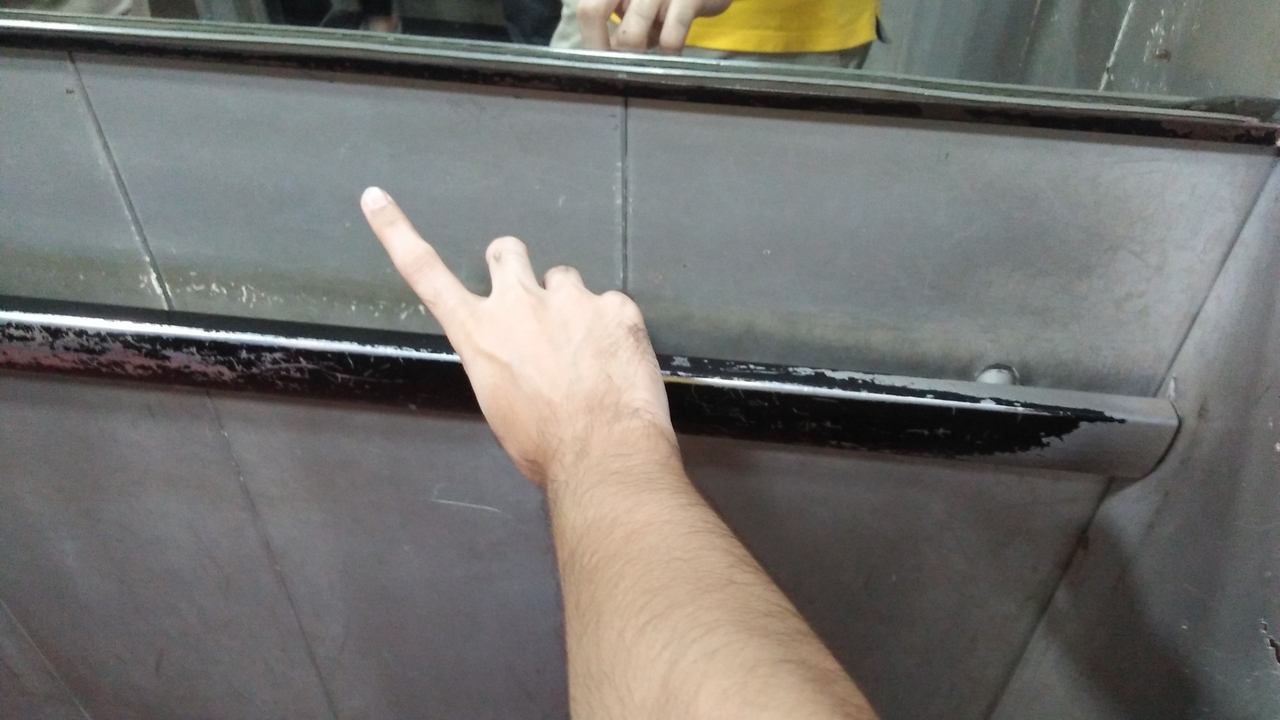fingertip: (344, 174, 412, 228)
